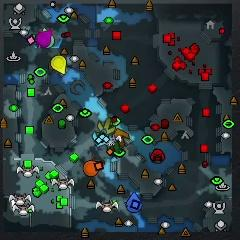p1: (125, 192, 143, 213)
p2: (40, 27, 55, 49)
p3: (36, 28, 53, 48)
p4: (51, 54, 68, 74)
p5: (83, 160, 102, 178)
x2: (96, 116, 115, 134)
x3: (90, 131, 110, 146)
x4: (107, 141, 122, 154)
x5: (111, 129, 129, 146)
